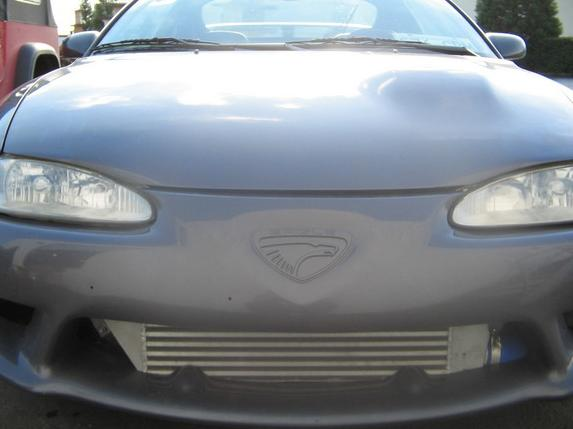front_view: (0, 114, 572, 404)
headlight: (3, 149, 179, 262)
